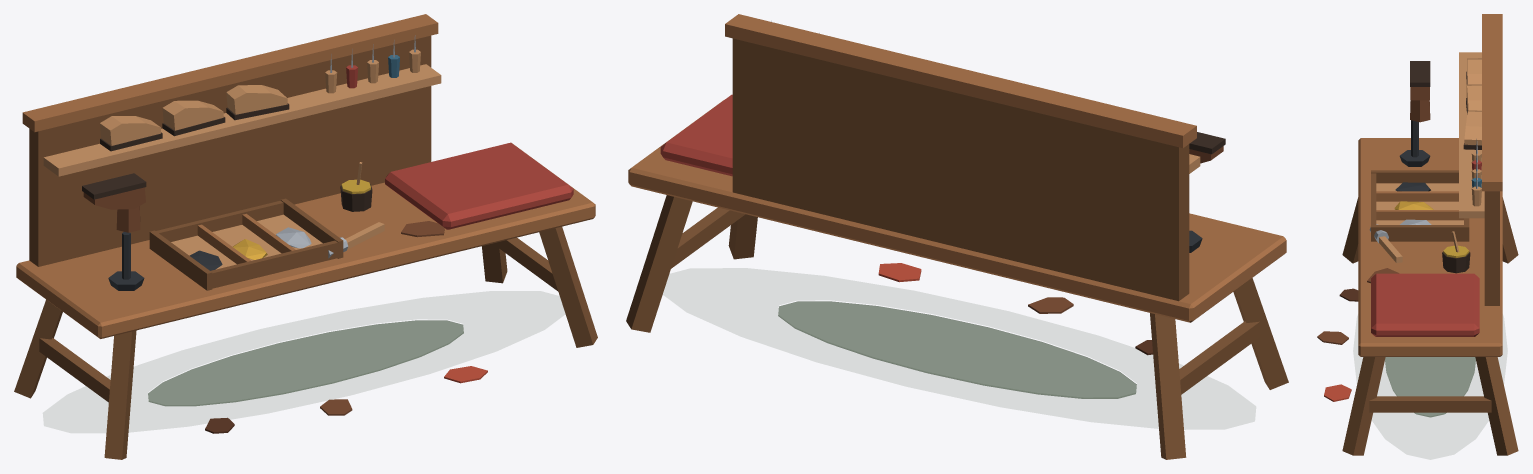
The model's file is cobbler_bench.glb.
3 renders of one model, left to right at view 1: azimuth 30°, elevation 25°; view 2: azimuth 150°, elevation 25°; view 3: azimuth 270°, elevation 25°, orthographic. The views are drawn at different scales.
Parts seen in each view (by area): view 1: cobbler_bench; view 2: cobbler_bench; view 3: cobbler_bench.
Part boxes in pixels (bbox=[...]): cobbler_bench: bbox=[14, 14, 597, 459]; cobbler_bench: bbox=[626, 14, 1288, 459]; cobbler_bench: bbox=[1317, 14, 1518, 455].
Size of the model in its own units: 2 by 1.04 by 0.7797.
